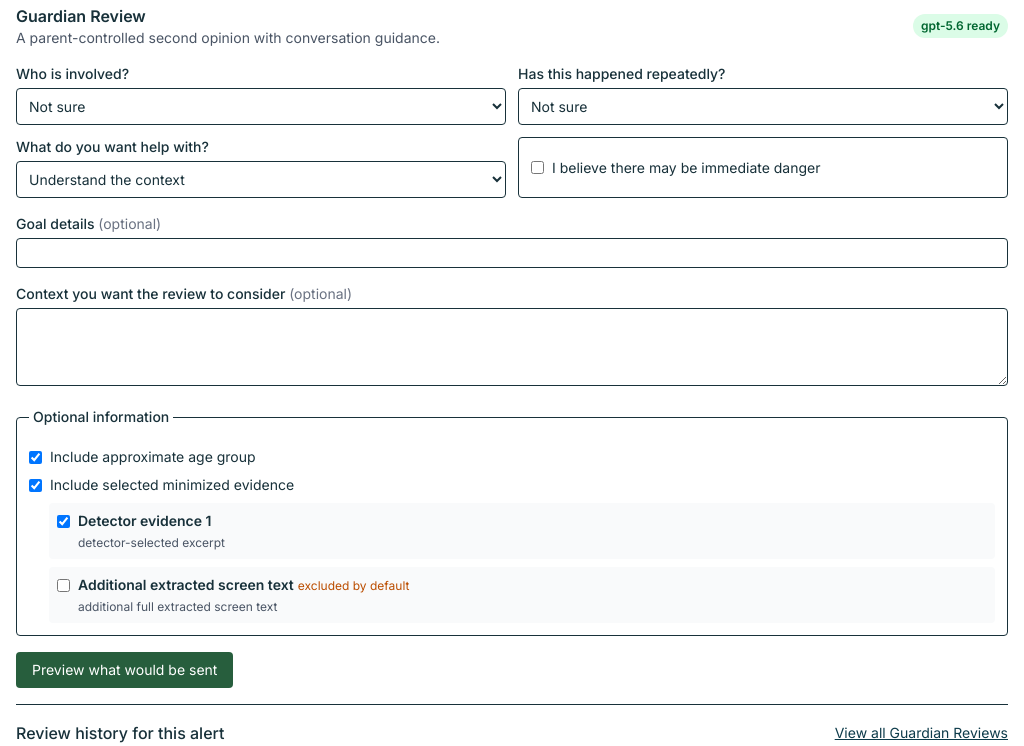
Test: Guardian Review privacy flow › submits only after consent and renders the structured result
Expected: the text "gpt-5.6 ready" is shown, [913,14,1008,38]
Click the button "Preview what would be sent": (125, 670) [16,652,233,688]
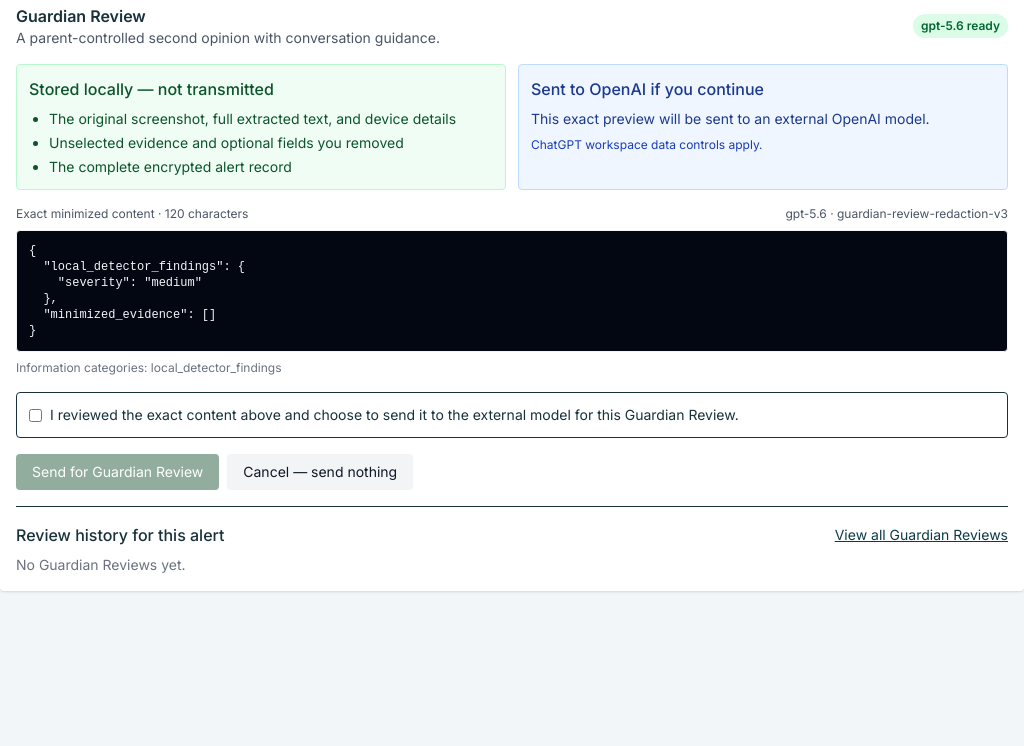
Now the button "Send for Guardian Review" is shown, box [16,454,219,490]
Click the checkbox labelled "I reviewed the exact content": (36, 416) [29,409,42,422]
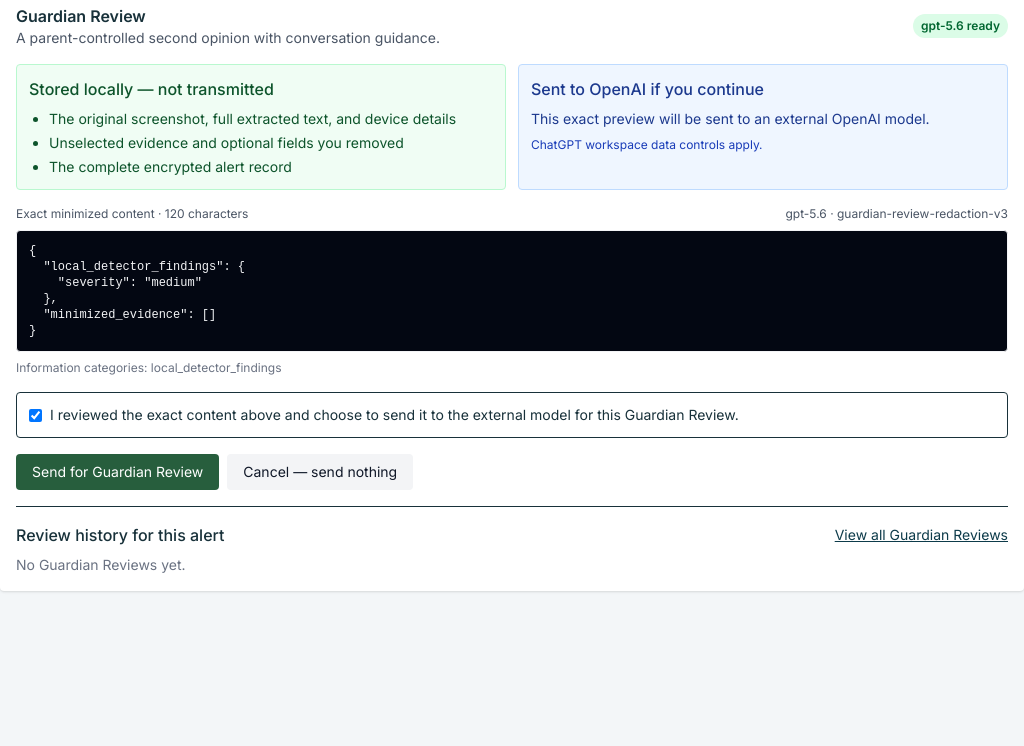
Click the button "Send for Guardian Review": (118, 472) [16,454,219,490]
(page scrolled)
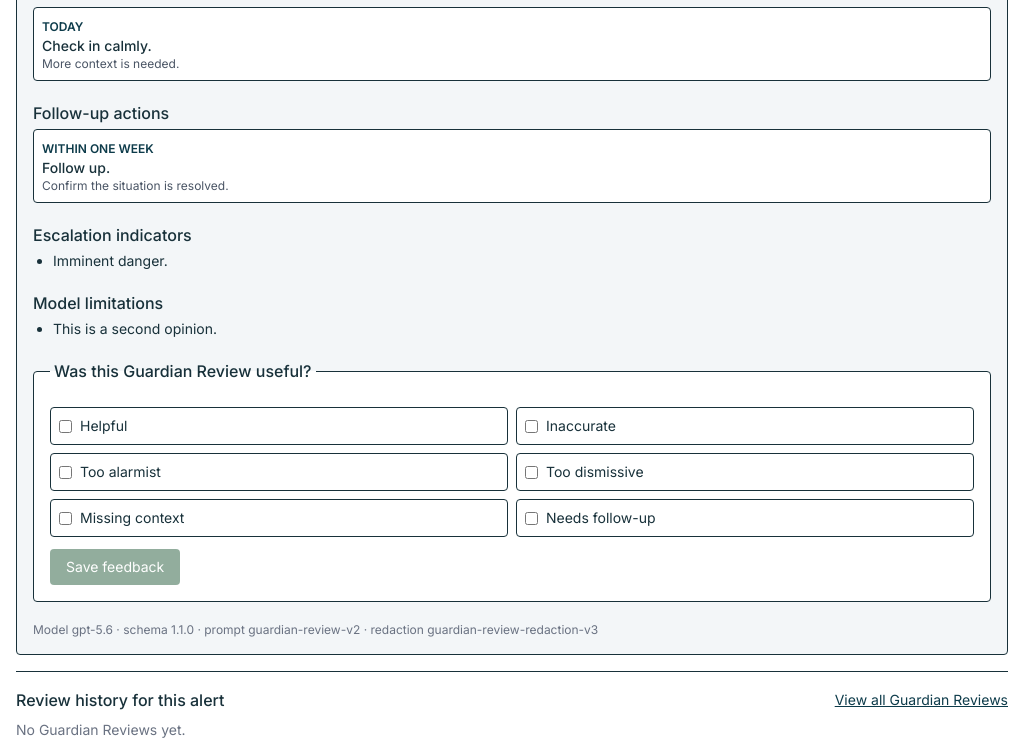
Click the checkbox labelled "Helpful": (66, 426) [59,420,72,432]
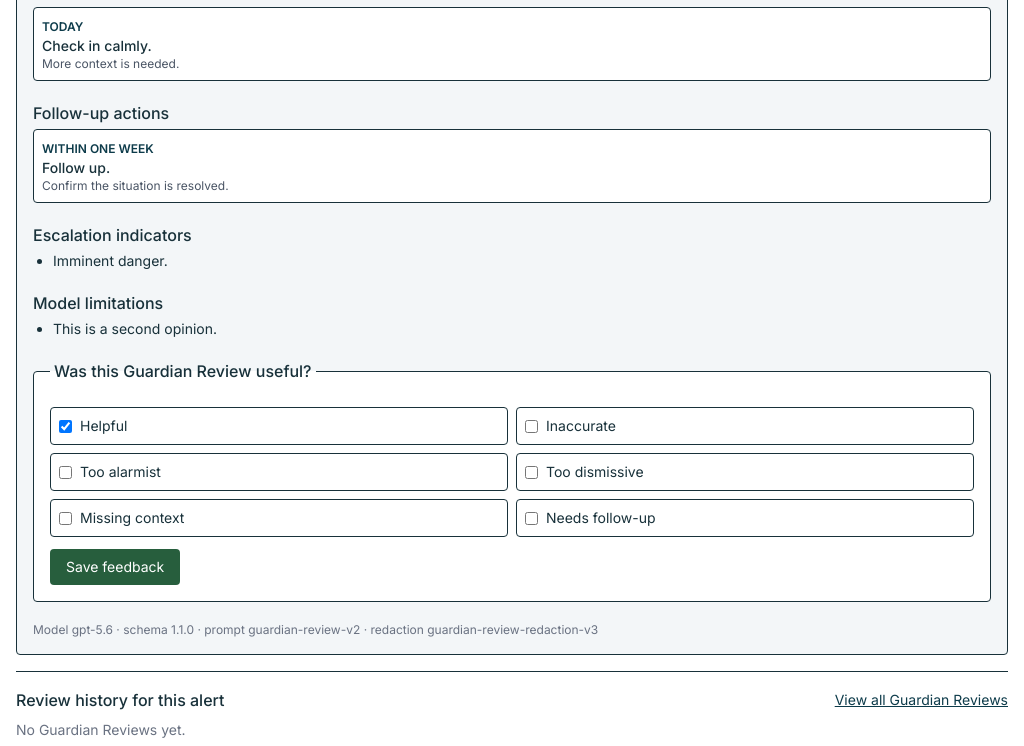
Click the button "Save feedback": (115, 567) [50,549,180,585]
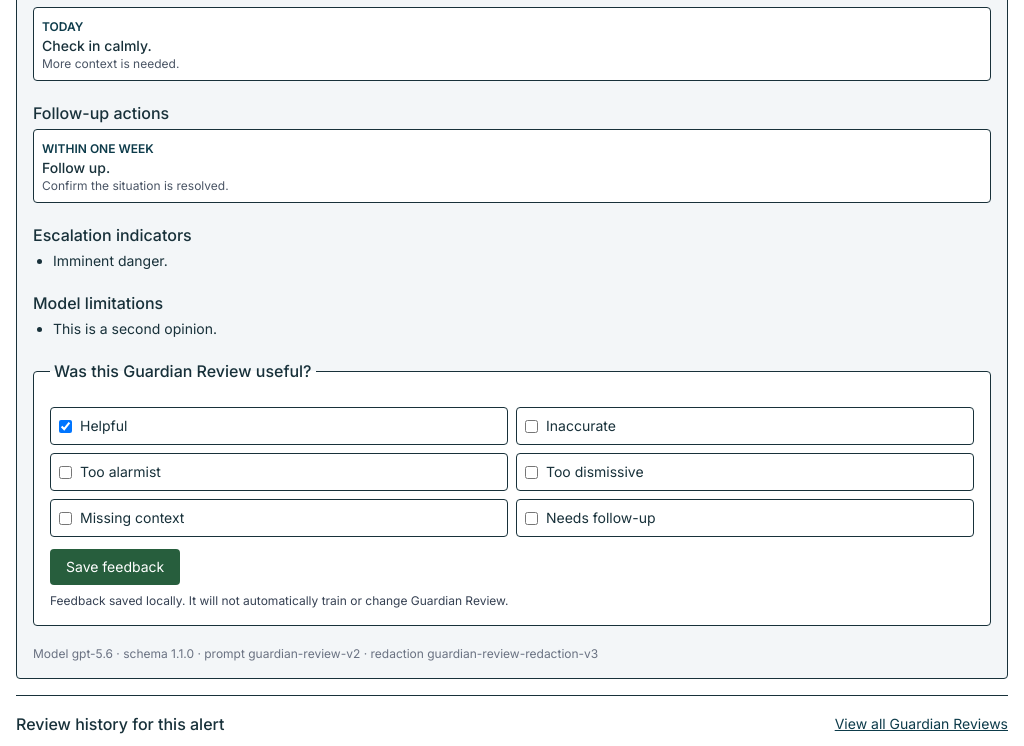
Now the text "will not automatically train" is shown, box [50,593,508,608]
